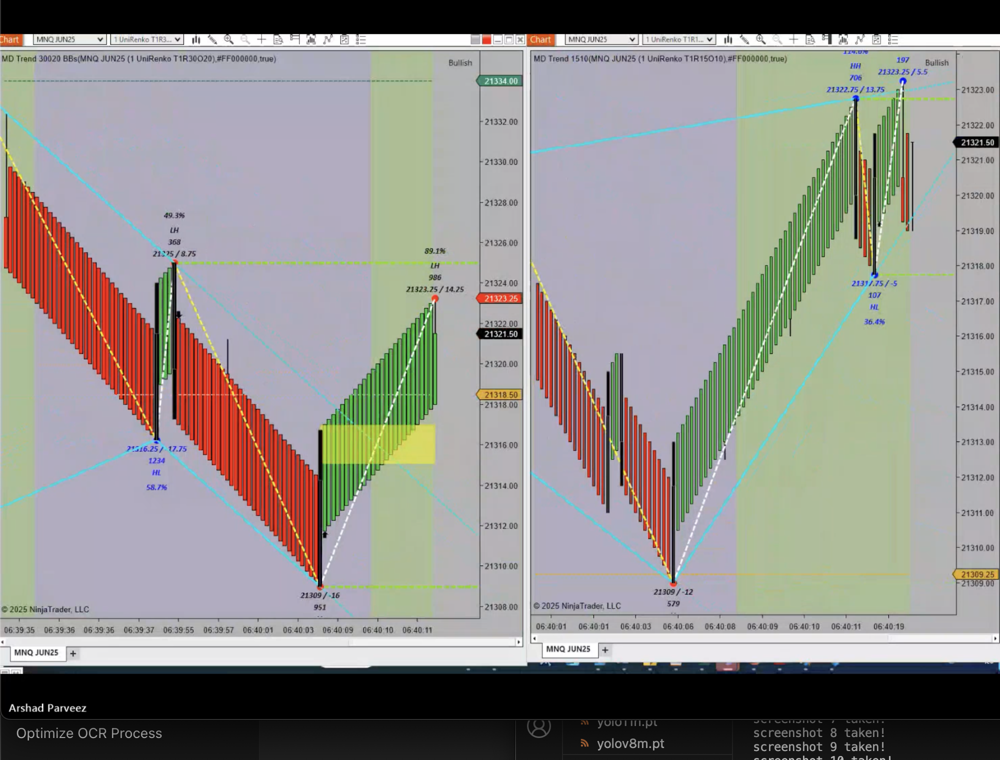HH: (847, 59, 864, 72)
HL: (866, 299, 883, 313), (148, 465, 163, 480)
LH: (167, 224, 183, 238), (429, 259, 443, 275)
